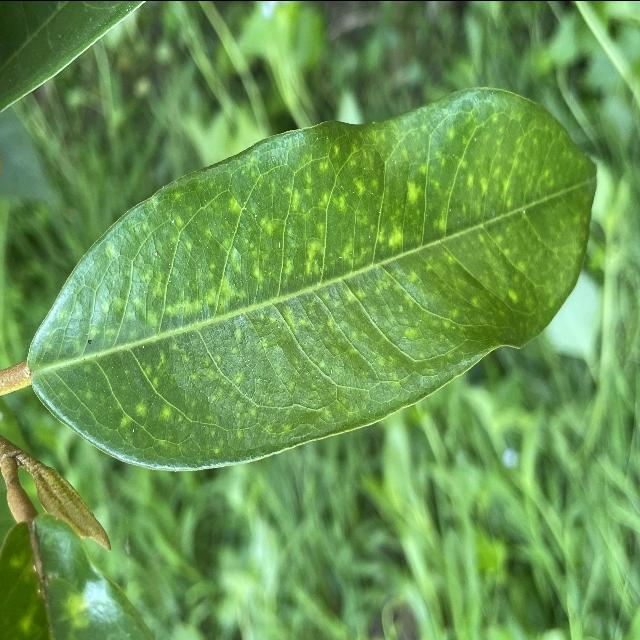Leaf Spot: (13, 79, 603, 475)
